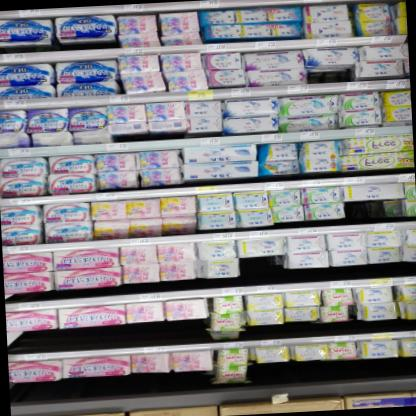empty_space: (240, 251, 286, 286), (347, 195, 387, 223)
